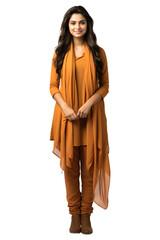Human: (37, 0, 128, 240)
